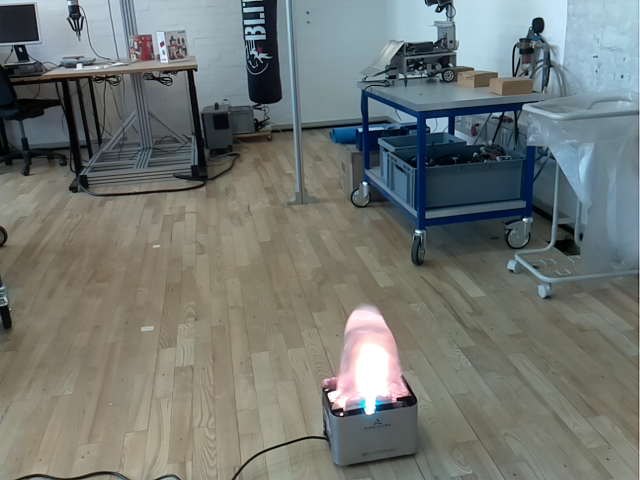fire: (331, 303, 411, 411)
